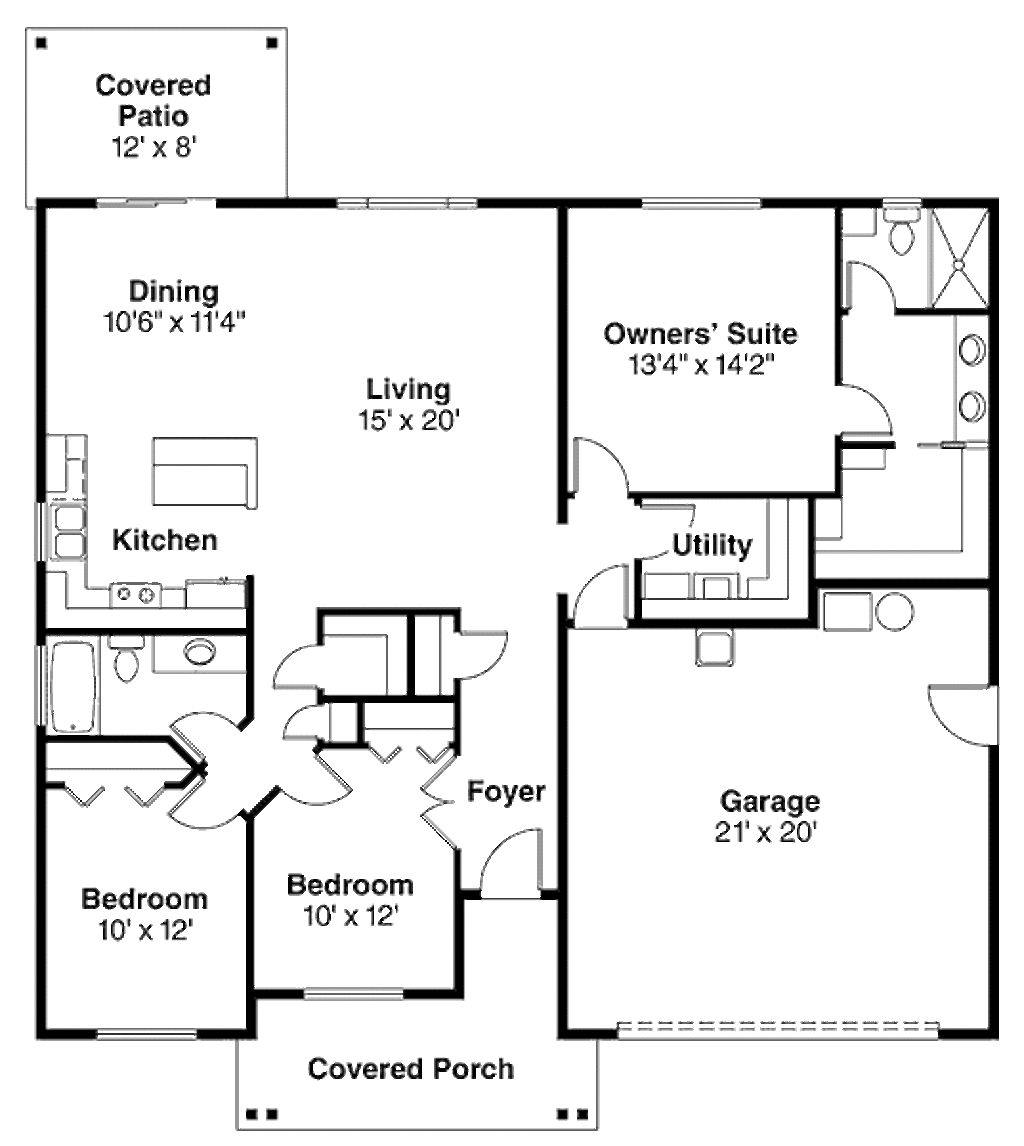door: (921, 673, 1012, 753), (566, 423, 641, 512), (468, 821, 546, 900), (414, 757, 468, 862), (152, 777, 237, 843), (164, 705, 244, 766), (271, 753, 351, 812), (835, 259, 900, 323), (569, 562, 626, 627), (632, 502, 702, 554), (834, 380, 893, 437), (264, 643, 334, 691), (455, 623, 510, 677), (282, 700, 326, 745)
large_sink: (101, 636, 159, 693), (884, 198, 932, 252)
small_sink: (953, 318, 994, 437), (162, 634, 248, 671)
tub: (48, 645, 105, 739)
twin_sink: (37, 502, 103, 562)
window: (334, 184, 485, 214), (96, 187, 221, 220), (643, 189, 762, 214), (301, 982, 416, 1005), (93, 1027, 202, 1050)
